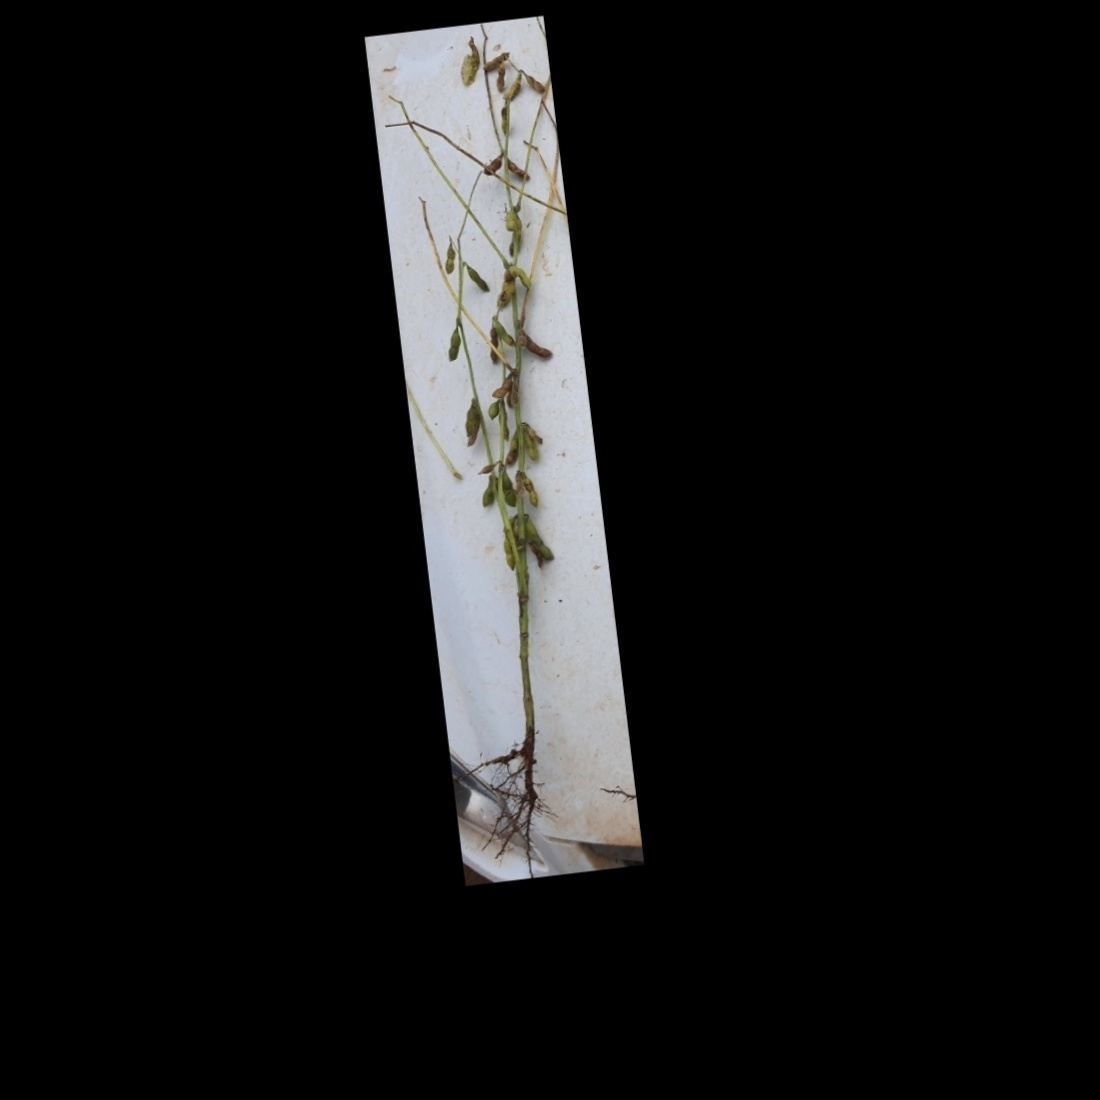pod: (519, 323, 558, 365), (462, 259, 492, 298), (504, 151, 533, 187), (498, 470, 521, 512), (511, 261, 535, 298), (480, 45, 509, 74), (520, 66, 546, 97), (492, 316, 516, 349), (440, 240, 461, 275), (482, 150, 509, 177), (519, 472, 539, 509), (500, 534, 517, 573), (477, 476, 497, 511), (445, 327, 463, 362), (492, 63, 511, 93), (496, 103, 510, 137), (500, 210, 516, 237), (484, 400, 501, 424)
soy: (377, 27, 638, 862)
